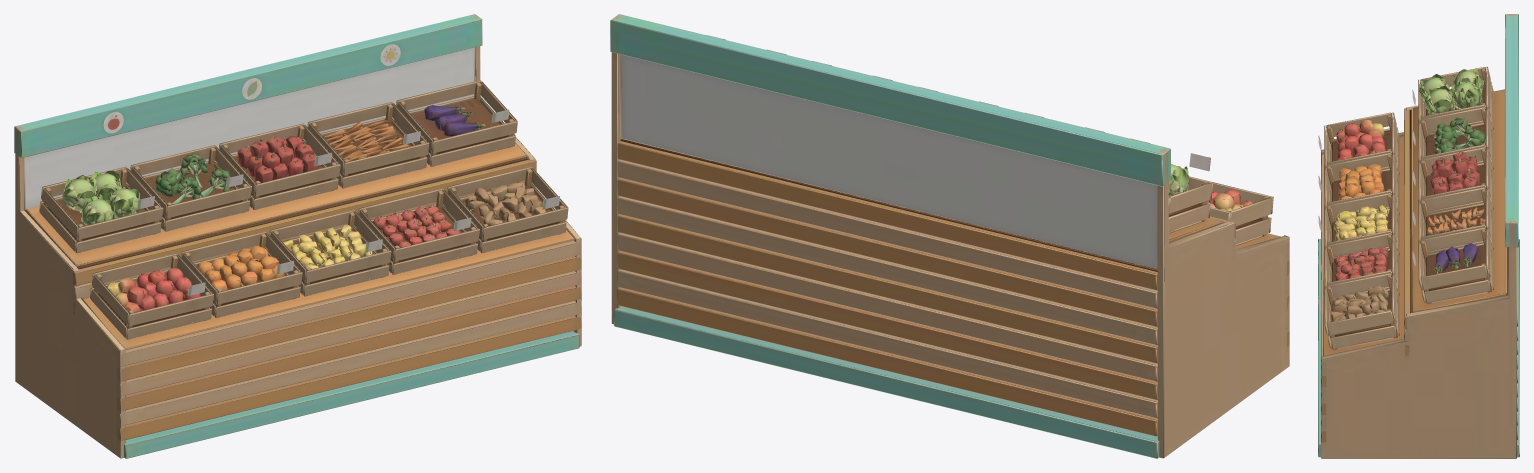
File: produce-display-light.glb
The picture shows the model from 3 angles, left to right: view 1: azimuth 30°, elevation 25°; view 2: azimuth 150°, elevation 25°; view 3: azimuth 270°, elevation 25°; orthographic projection. The views are drawn at different scales.
Parts seen in each view (by area): view 1: produce-display_body; view 2: produce-display_body; view 3: produce-display_body.
Part boxes in pixels (x1=…): produce-display_body: x1=14, y1=14, x2=581, y2=458; produce-display_body: x1=610, y1=14, x2=1289, y2=458; produce-display_body: x1=1318, y1=14, x2=1519, y2=458.
Size of the model in its own units: 2.5 by 1.32 by 1.02.
Materials: 1 (1 with a texture image).
